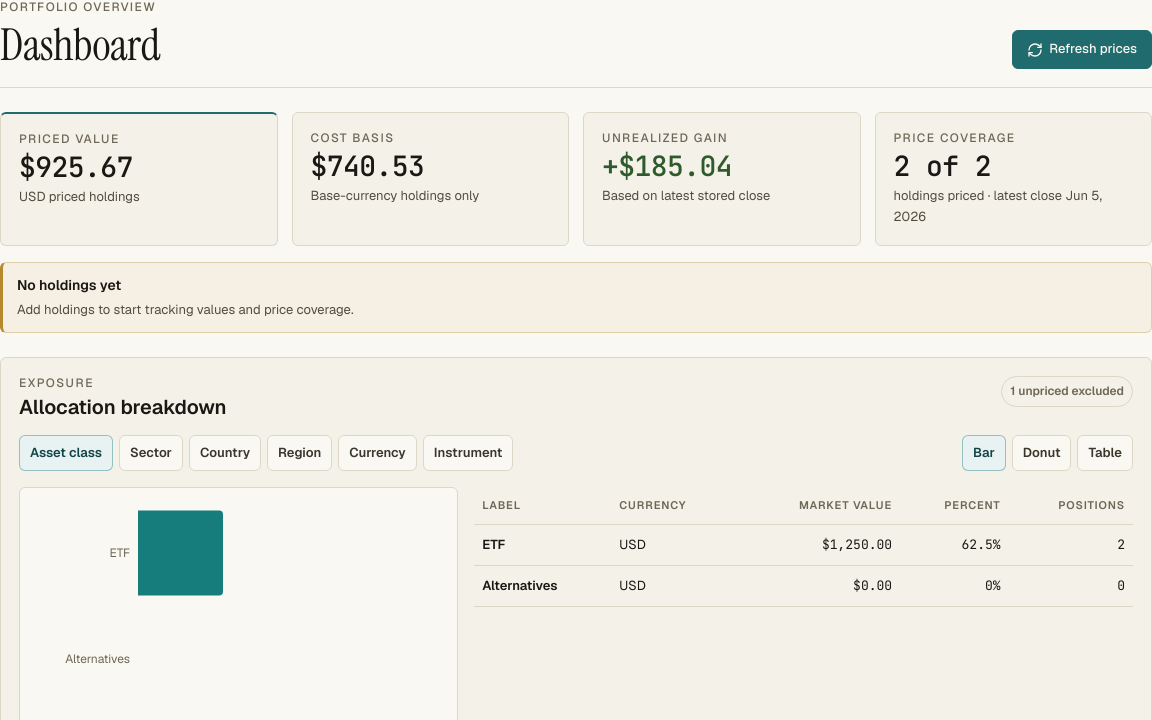
Scenario: allocation composition drill-down › shows an empty composition state
The image size is (1152, 720).
Click the button with aria-label "Alternatives USD composition".
click(804, 586)  # box [474,566,1133,607]
(page scrolled)
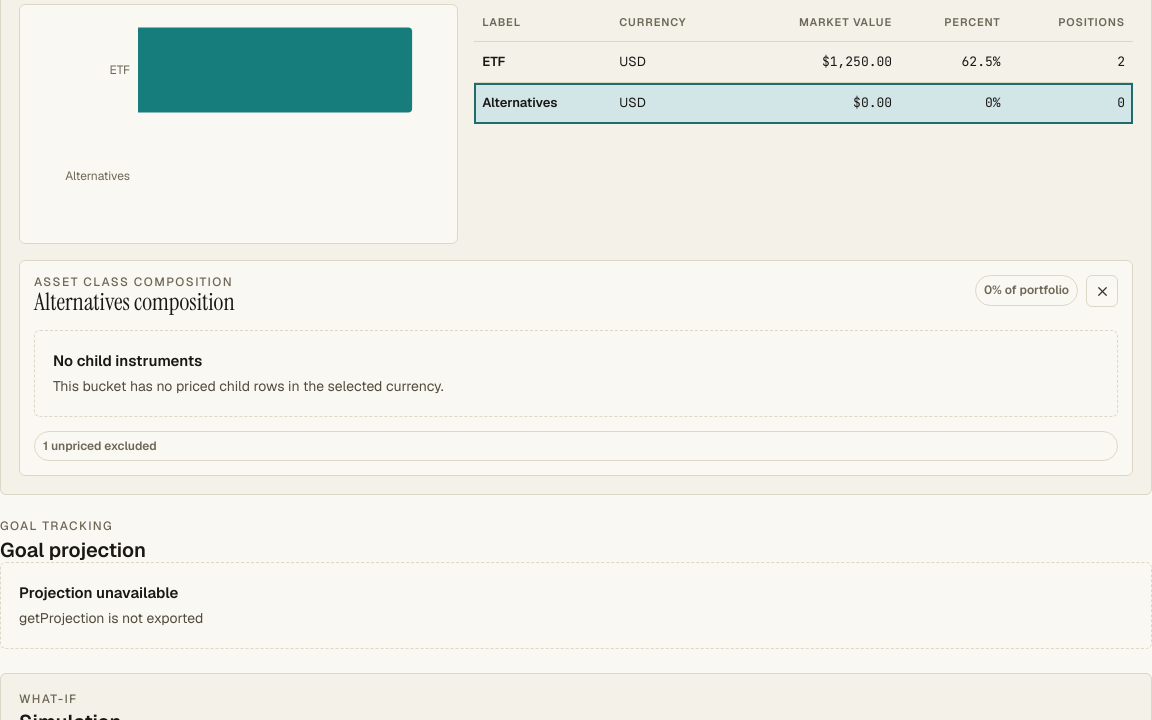
Expected: the text "No child instruments" is shown, [53,351,202,370]
